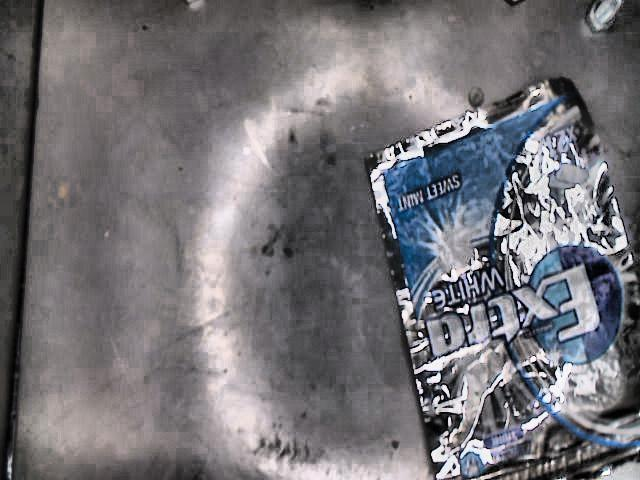Plastic: (365, 80, 640, 480)
